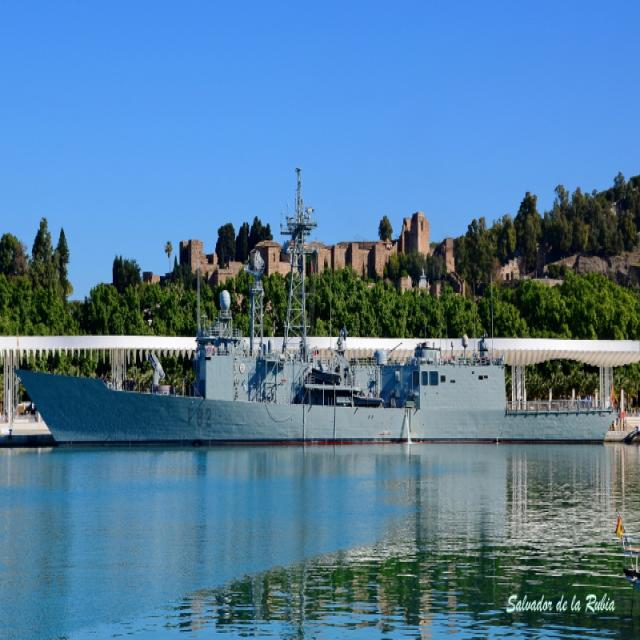Fragata: (15, 236, 618, 452)
